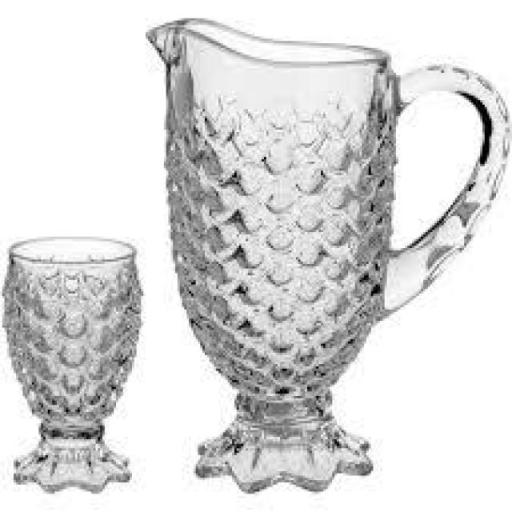glass: (125, 7, 512, 503), (0, 224, 151, 502)
